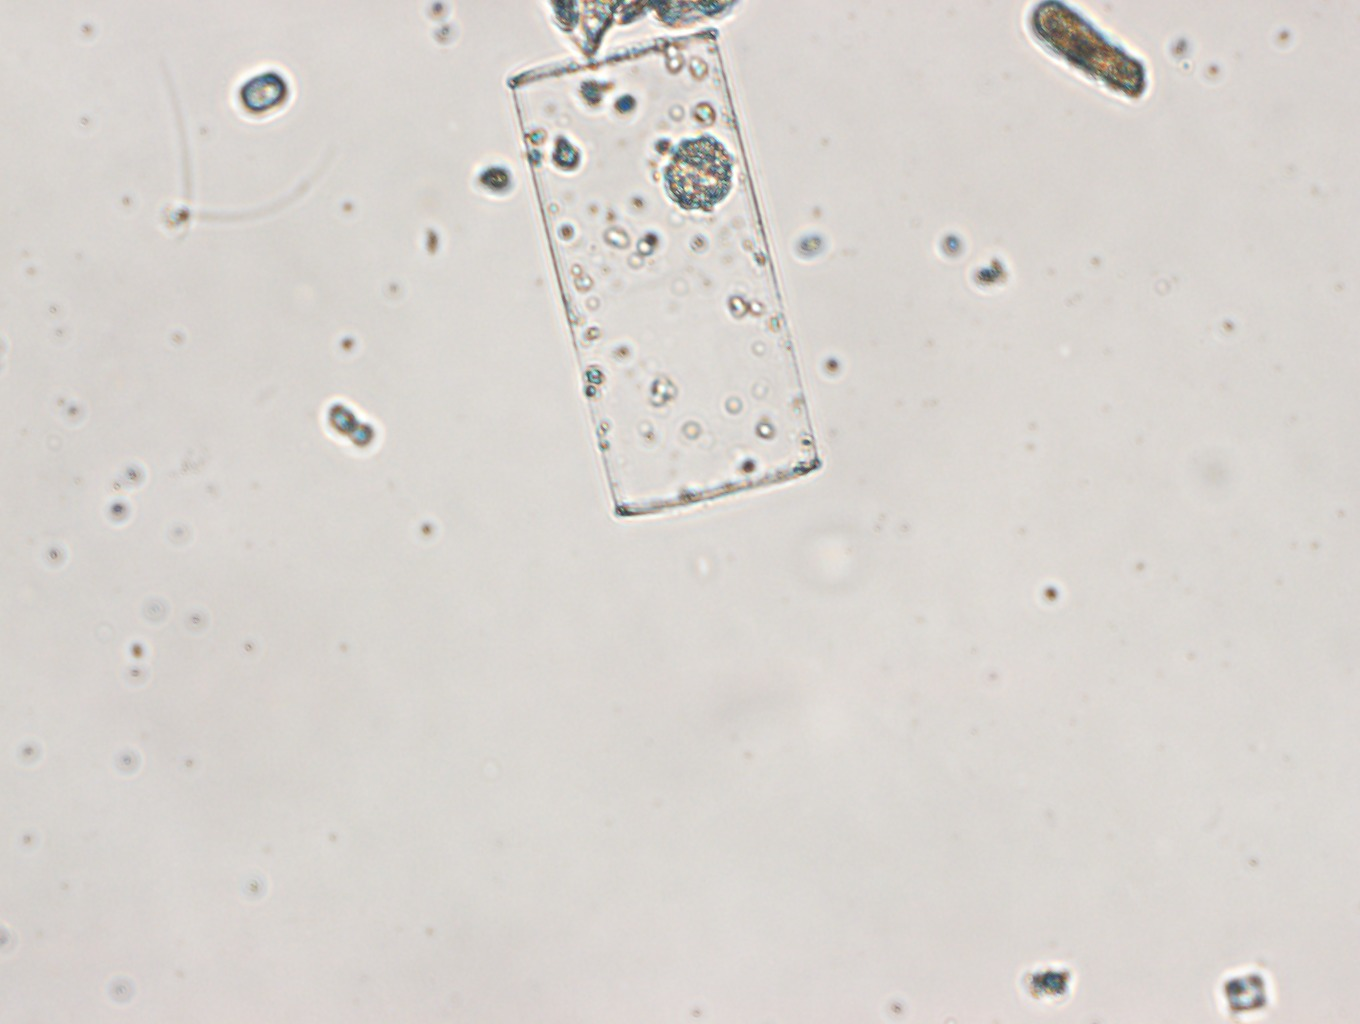guinardia flaccida: (498, 30, 836, 522)
